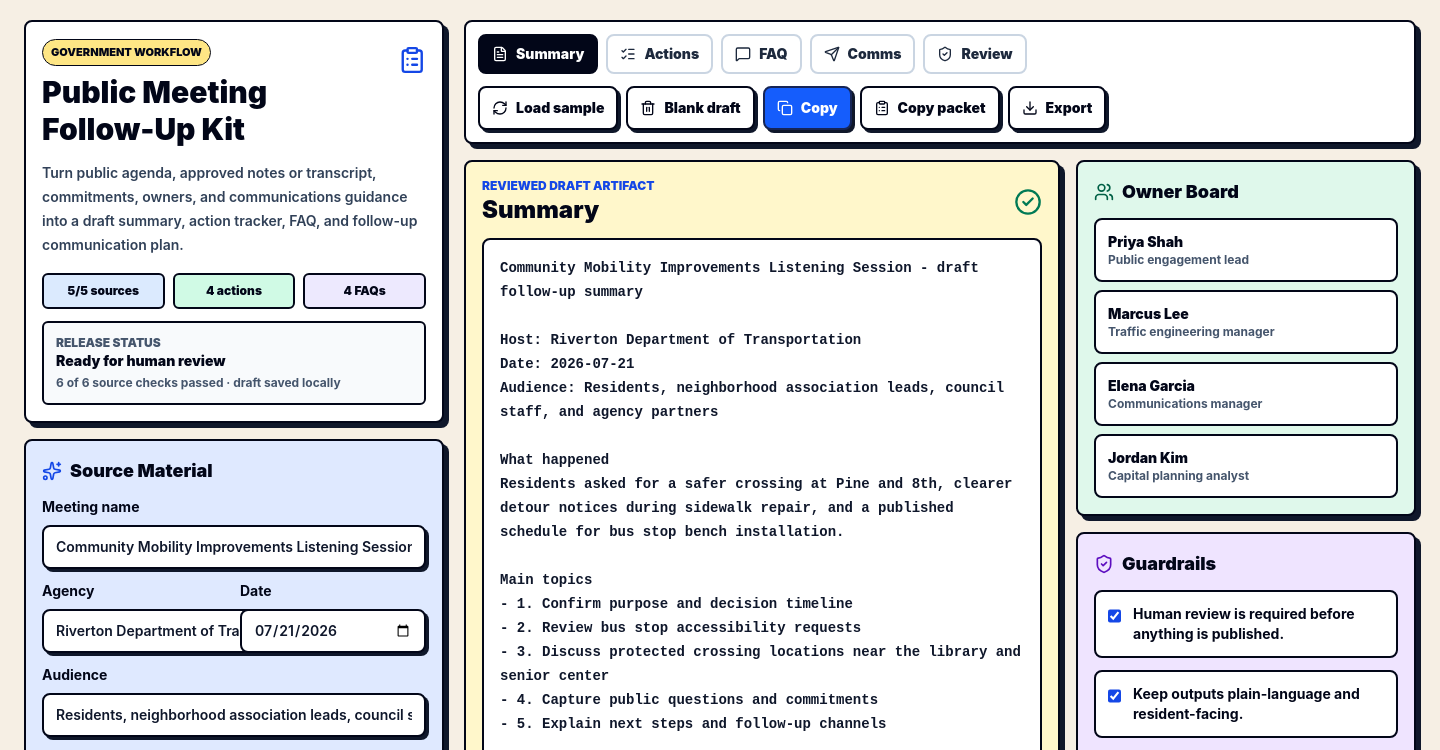
Test: HomePage › can start a blank draft and shows missing source checks
Click the button "Blank draft". click: {"x": 691, "y": 108}
box: [626, 86, 755, 130]
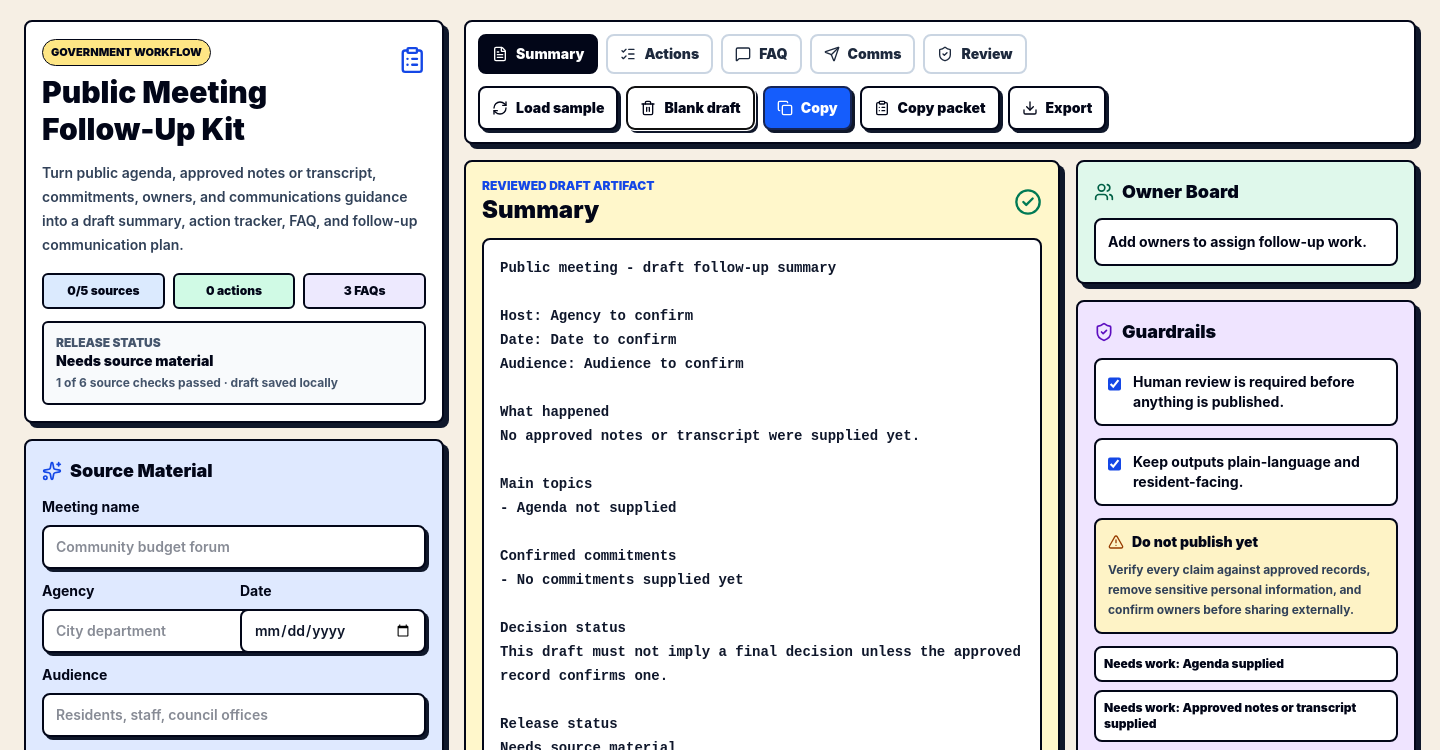
Result: the text "Needs source material" is shown at [56, 352, 214, 368]
Result: the text "1 of 6 source checks passed · draft saved locally" is shown at [56, 374, 338, 390]
Result: the field labelled "Meeting name" is empty at [42, 524, 426, 568]
